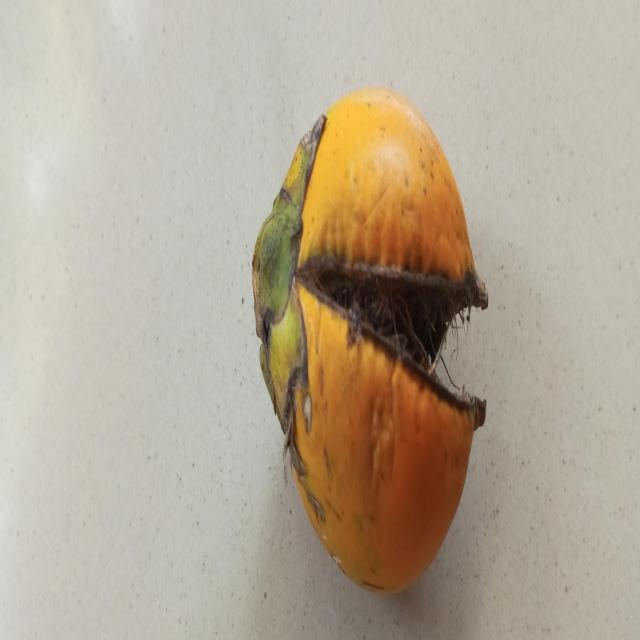damaged: (252, 88, 488, 593)
